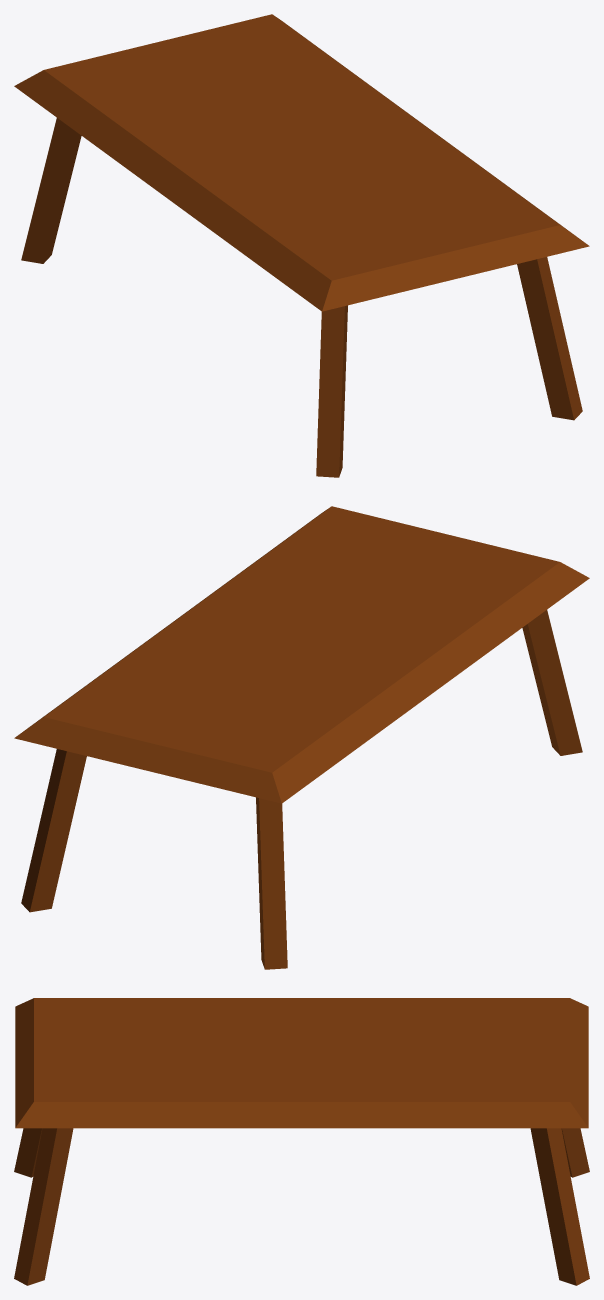
File: стол.fbx
3 views of the same model, one above another, from view 1: azimuth 30°, elevation 25°; view 2: azimuth 150°, elevation 25°; view 3: azimuth 270°, elevation 25° (orthographic). The views are drawn at different scales.
Parts seen in each view (by area): view 1: стол; view 2: стол; view 3: стол.
Part boxes in pixels (<box>): стол: <box>14,14,589,477</box>; стол: <box>14,506,589,969</box>; стол: <box>14,998,589,1285</box>.
Bounding box in the file's own units: 106 × 71.03 × 211.
